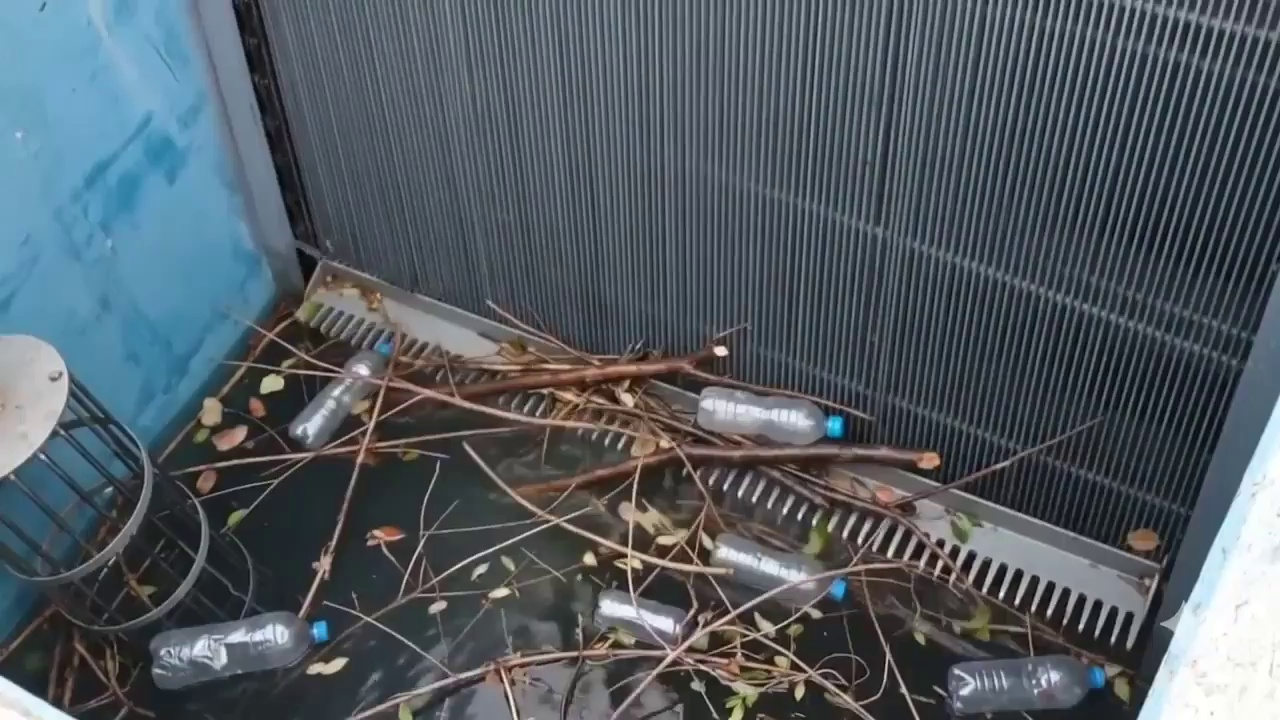debris: (428, 344, 940, 513), (152, 613, 328, 687), (289, 341, 389, 450), (710, 533, 843, 606), (948, 655, 1107, 714), (593, 590, 688, 646)
